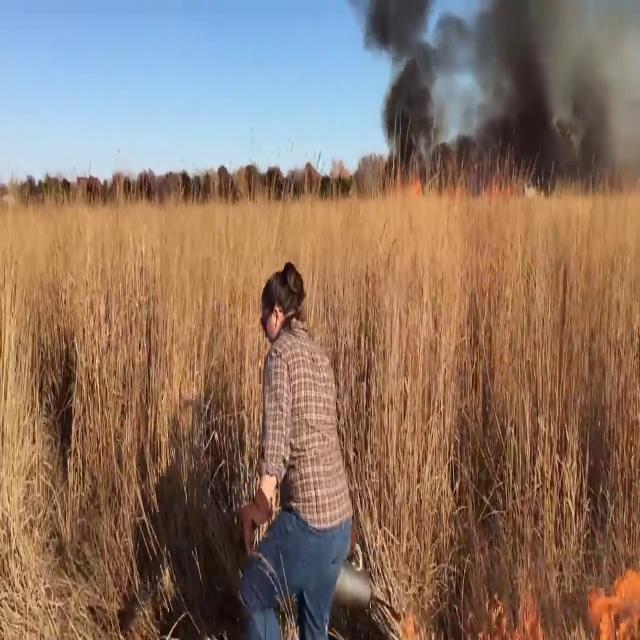Smoke: (470, 1, 640, 184), (353, 0, 457, 174)
